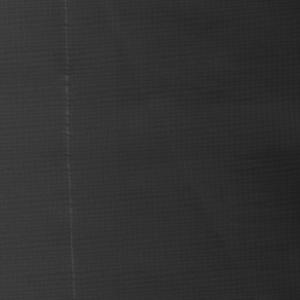Wrinkle: (87, 1, 300, 300)
